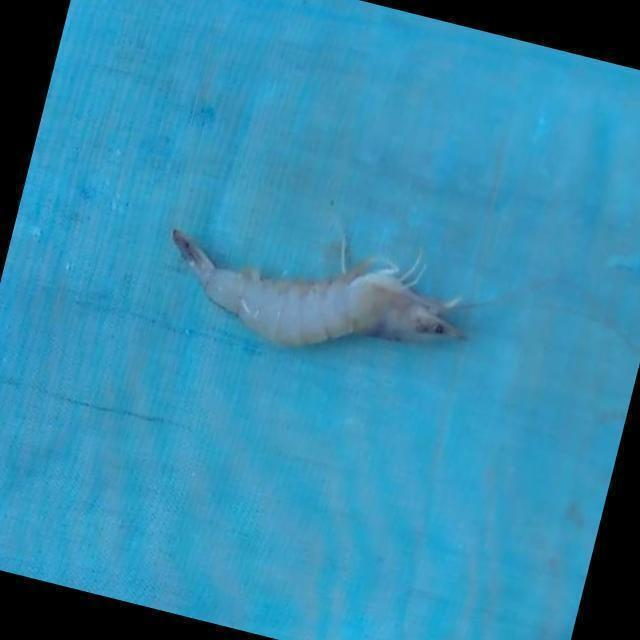shrimp: (171, 230, 462, 345)
